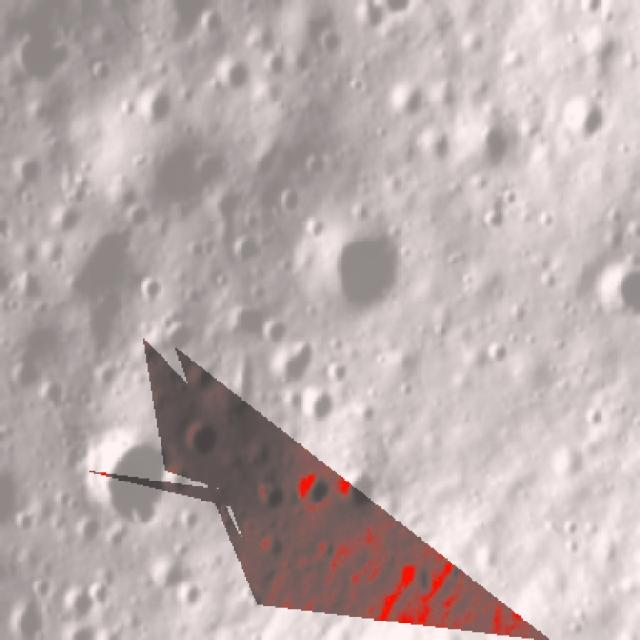crater: (303, 210, 417, 327), (78, 423, 176, 537), (252, 336, 322, 406), (453, 116, 519, 182), (9, 18, 74, 84), (210, 300, 285, 354), (132, 76, 182, 142), (335, 460, 383, 526), (554, 92, 606, 146), (178, 409, 225, 460), (216, 48, 258, 102), (384, 76, 428, 124), (288, 466, 330, 516), (53, 583, 99, 626), (4, 600, 48, 640), (228, 225, 267, 267), (250, 468, 285, 514), (272, 177, 310, 218), (168, 576, 205, 612), (255, 45, 292, 81), (135, 274, 167, 314), (314, 25, 349, 60), (480, 336, 512, 370), (193, 6, 225, 40), (86, 56, 111, 86)
